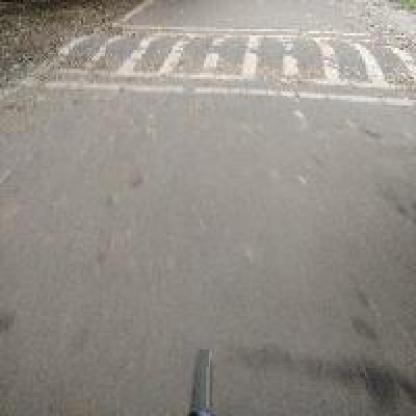Speed Bump: (14, 19, 414, 108)
